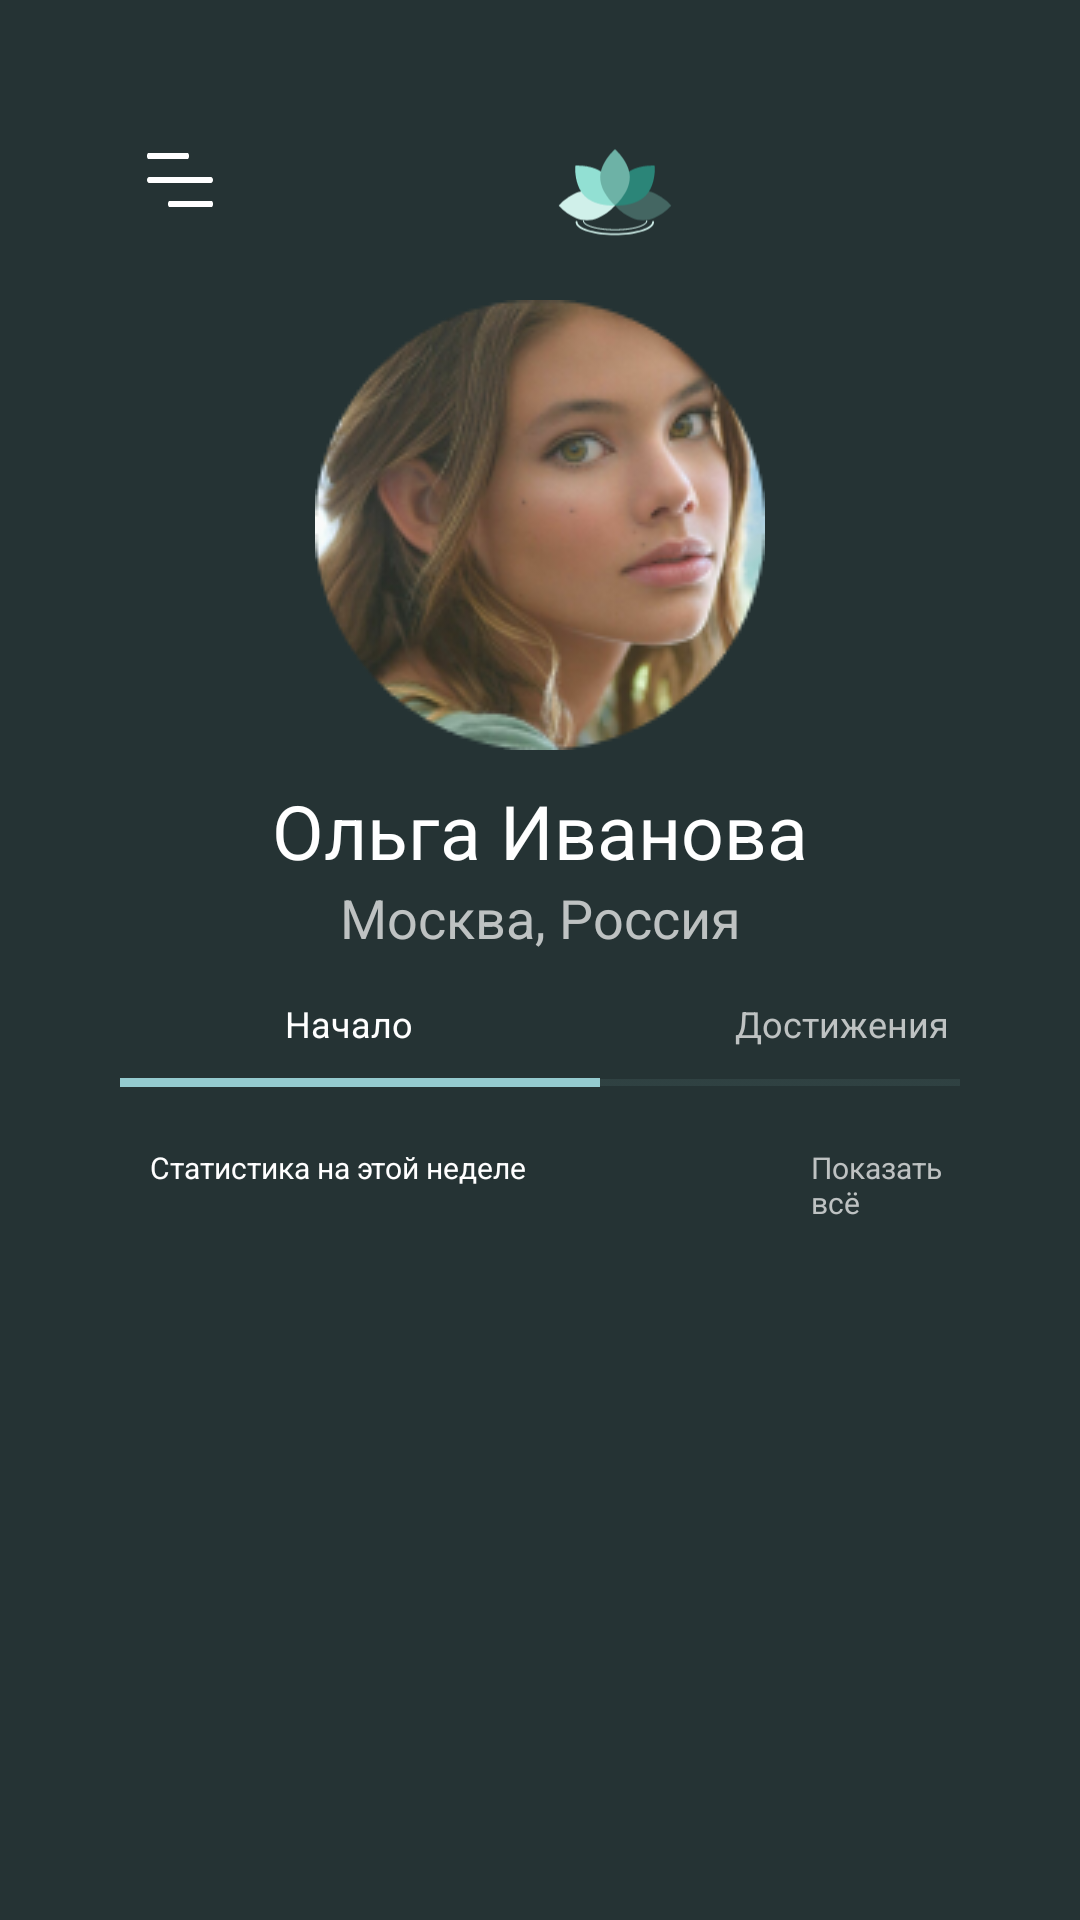

Screen size 1080px x 1920px. Icon name, then its center in pixels as (x=x, y=y):
menu: (x=180, y=180)
